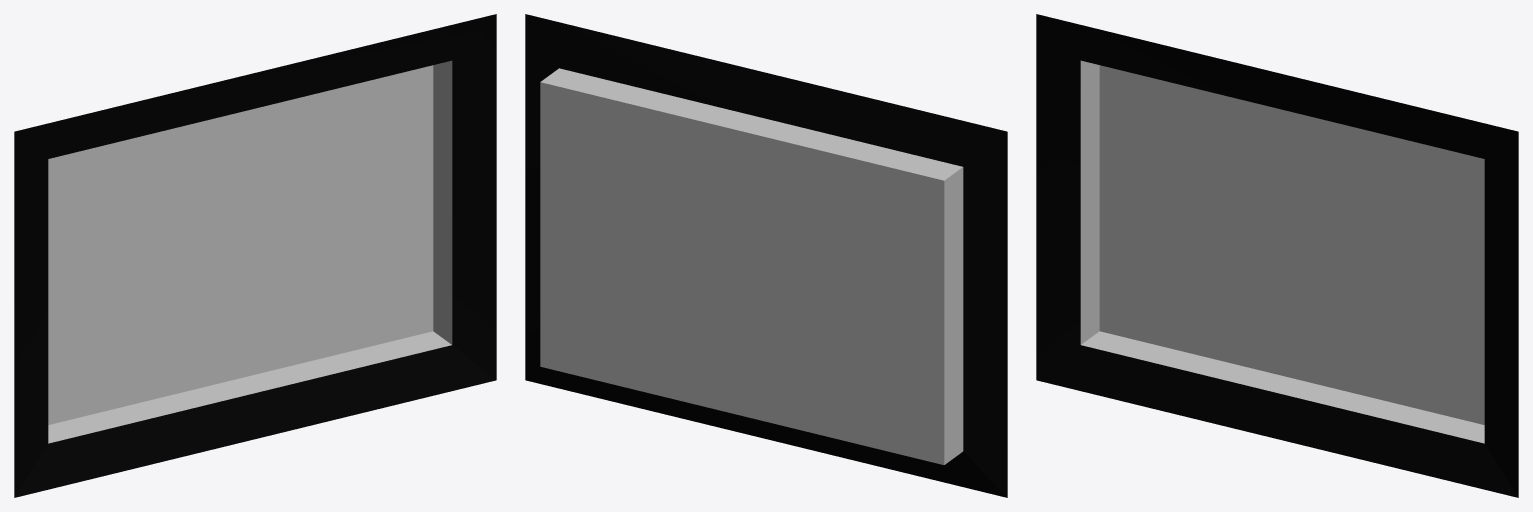
File: Wall_03_Art.fbx
The picture shows the model from 3 angles, left to right: view 1: azimuth 30°, elevation 25°; view 2: azimuth 150°, elevation 25°; view 3: azimuth 330°, elevation 25°; orthographic projection.
Parts seen in each view (by area): view 1: Wall_03; view 2: Wall_03; view 3: Wall_03.
Boxes of the visible parts, x1,y1,x2,y2 form: Wall_03: (14, 14, 496, 497); Wall_03: (525, 14, 1007, 497); Wall_03: (1036, 14, 1518, 497).
Bounding box in the file's own units: 2.27 × 1.65 × 0.1977.
